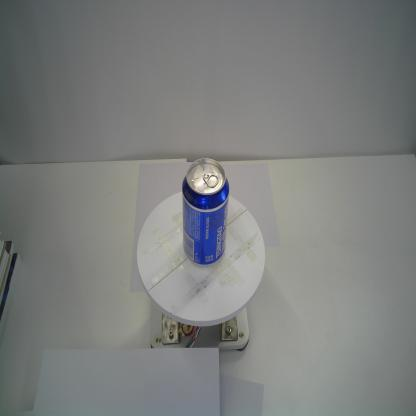Alcohol: (181, 158, 230, 267)
